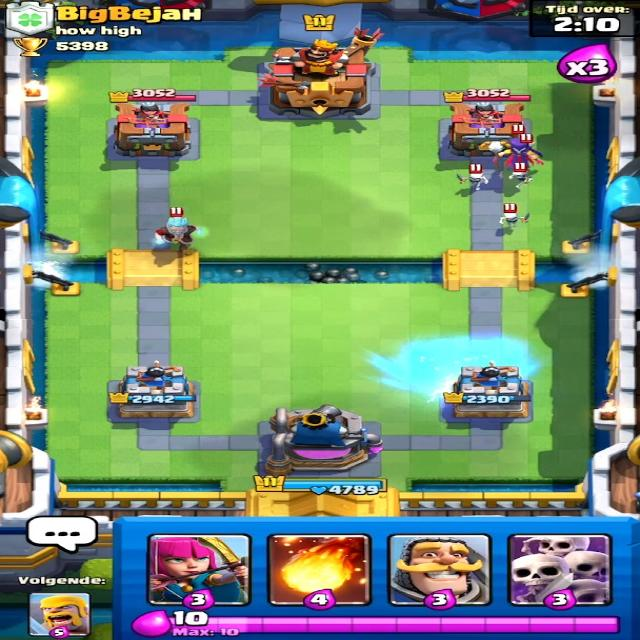Enemy_Ice_Wizard_Troop: (152, 215, 215, 251)
Enemy_Skeleton_Troop: (456, 171, 489, 192), (506, 170, 534, 190), (499, 210, 529, 228)
Enemy_Witch_Troop: (490, 135, 544, 177)
Fireball_Card: (258, 526, 367, 605)
